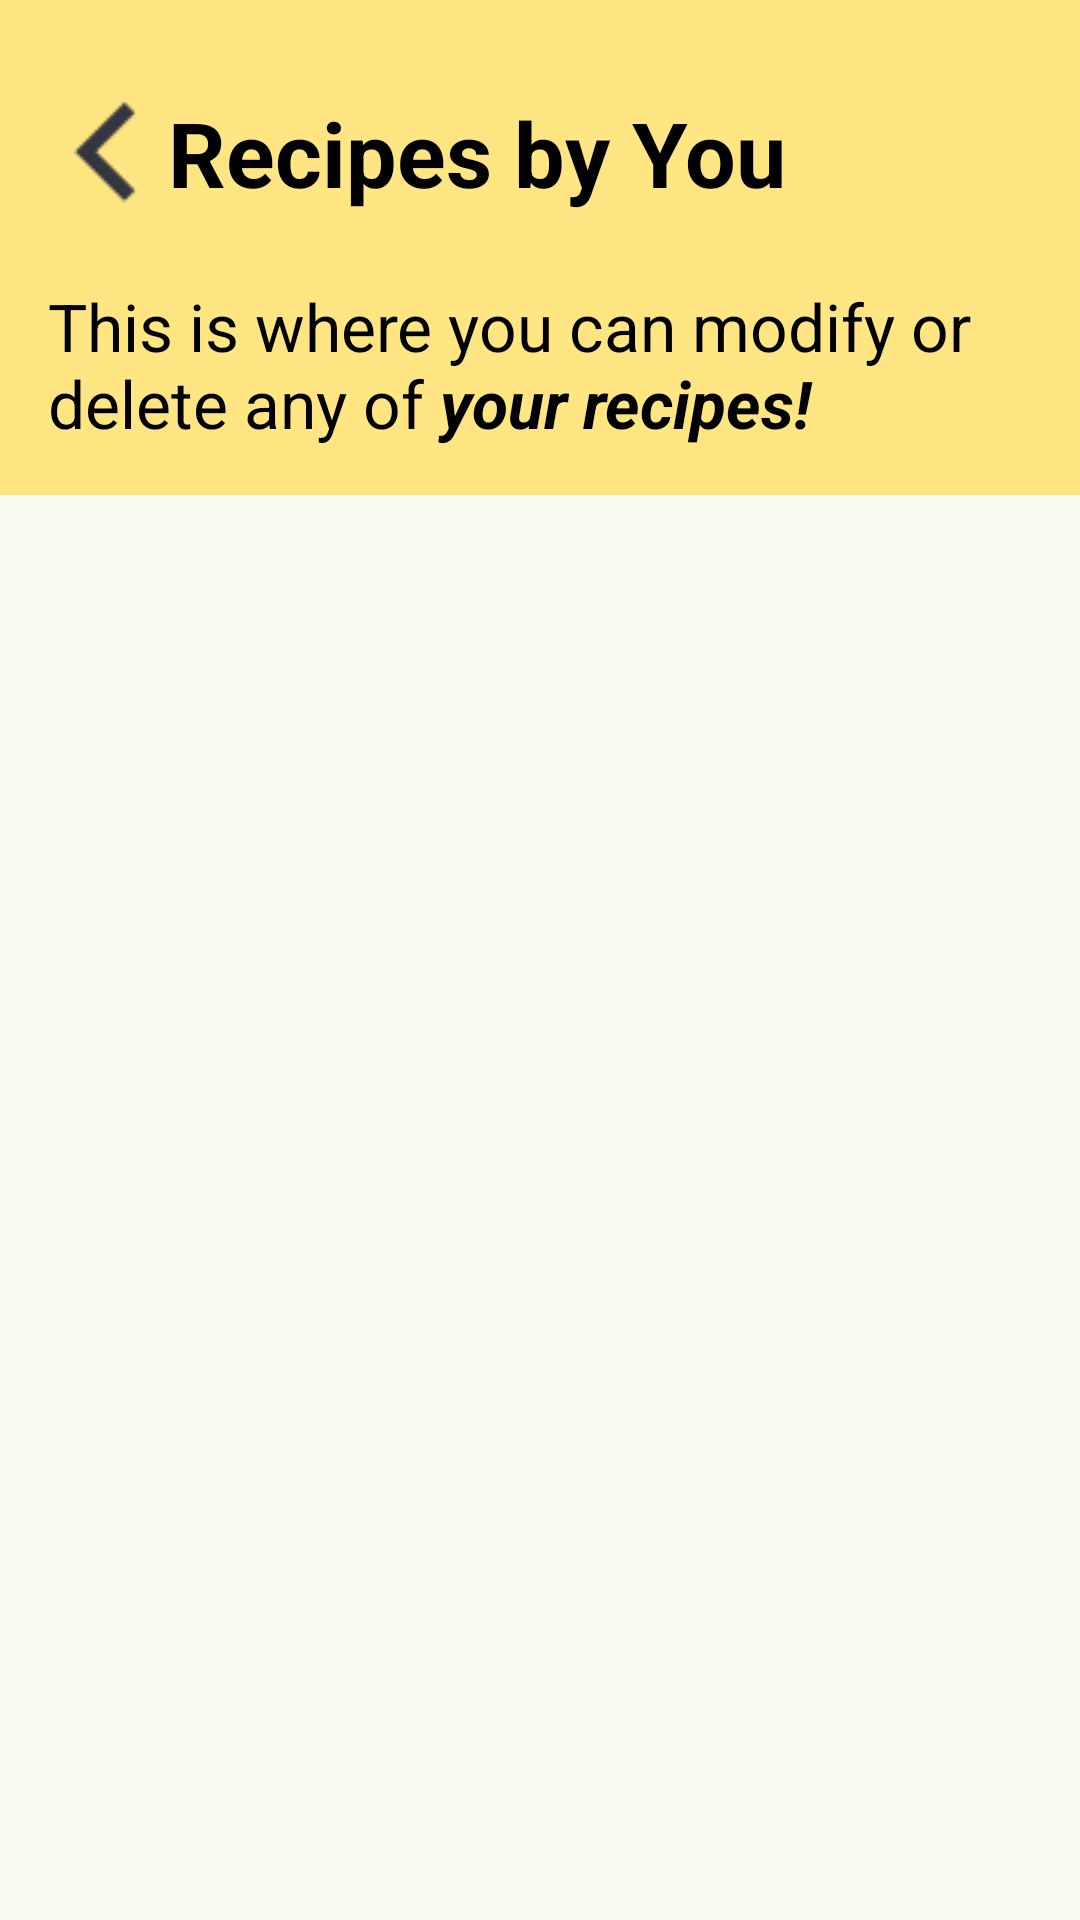

Screen size 1080w x 1920h. Icon name, then its center in pixels as [x,y]:
backwards arrow: [105,152]
